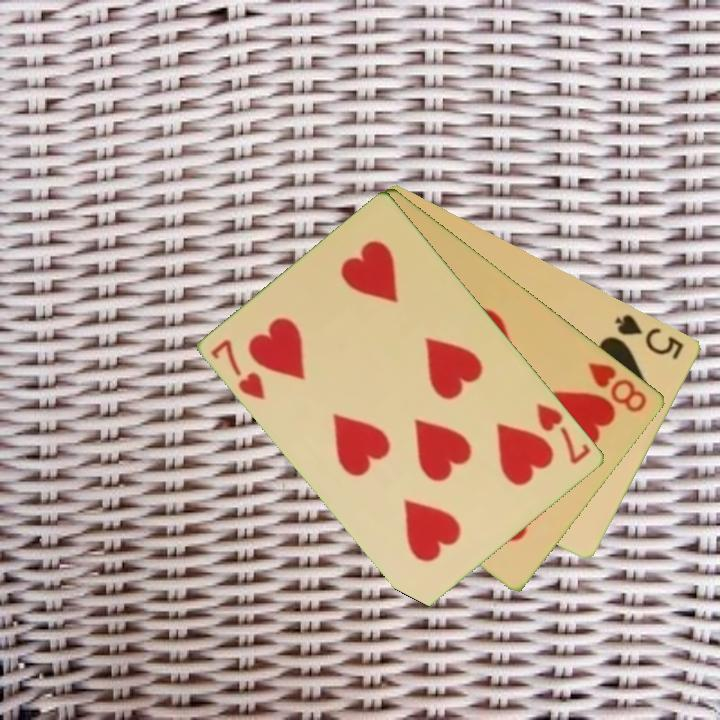5s: (611, 310, 688, 363)
7h: (533, 399, 595, 468), (208, 335, 269, 404)
8h: (585, 358, 651, 416)
